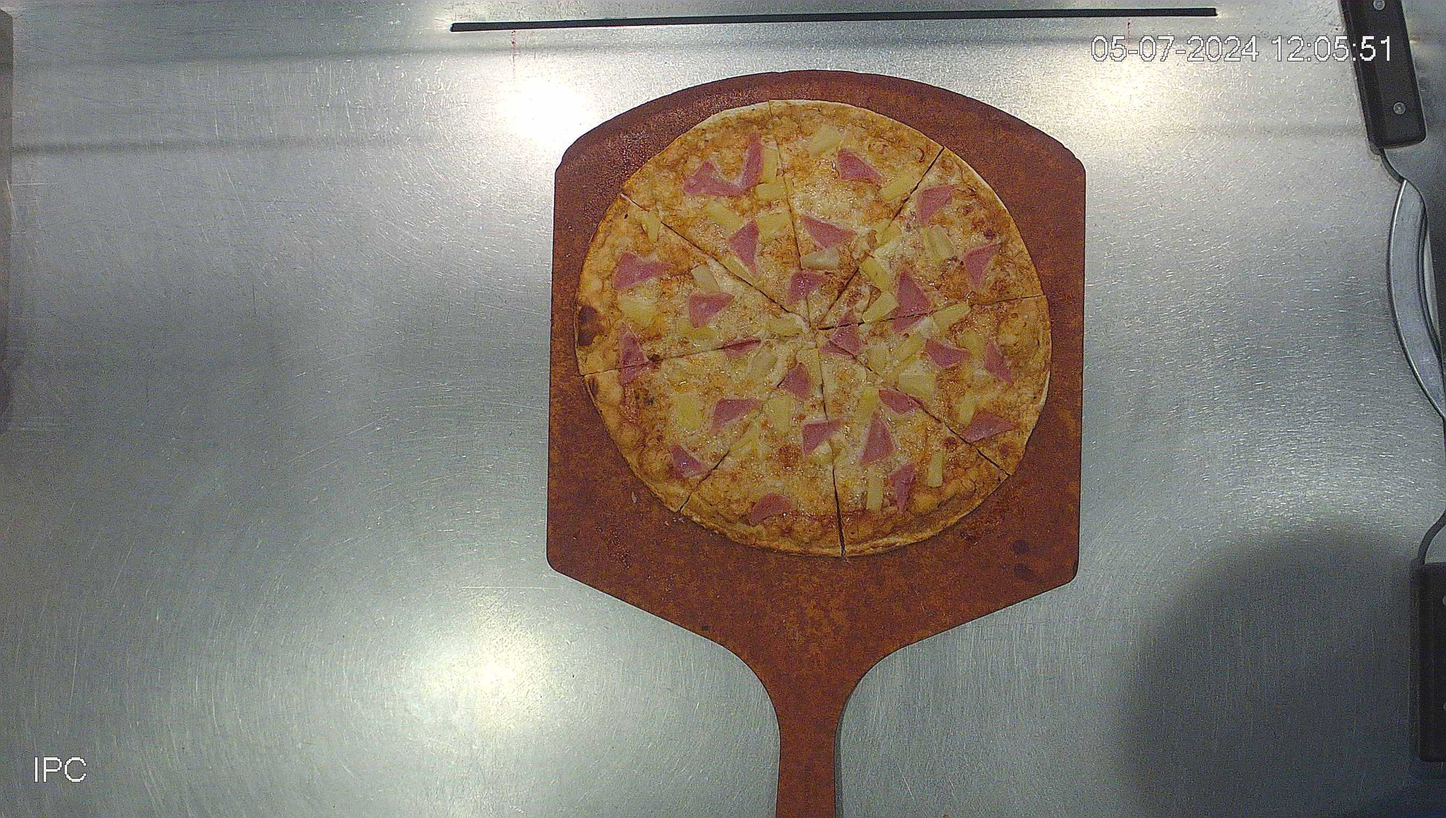manager_choice: (573, 99, 1053, 556)
